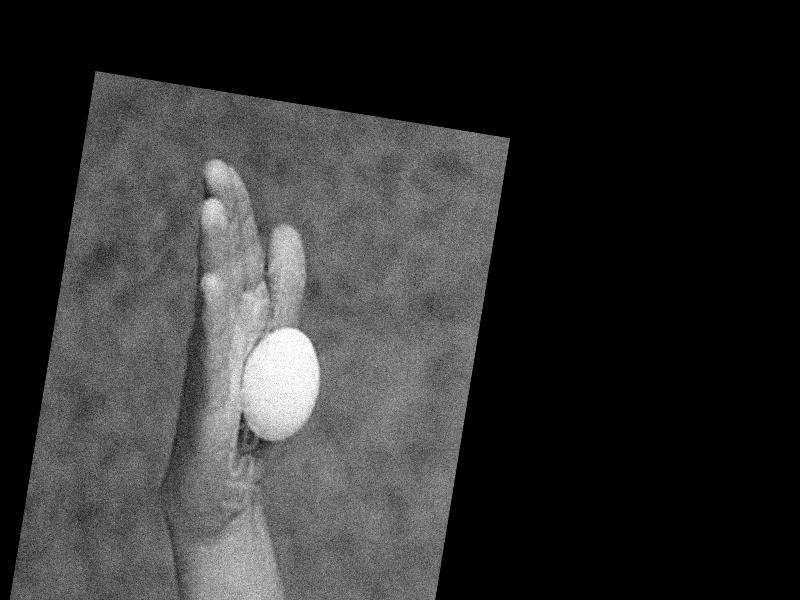Eggs: (233, 322, 329, 448)
